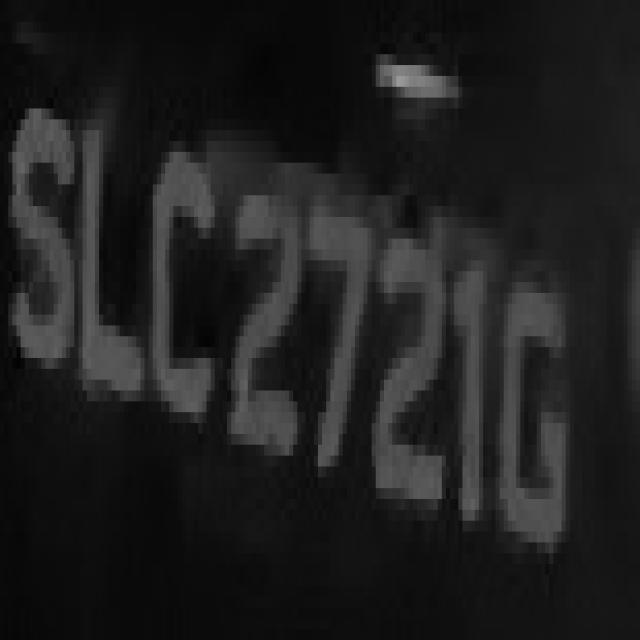1: (442, 184, 499, 554)
2: (372, 163, 450, 564), (223, 130, 306, 477)
7: (297, 152, 380, 499)
C: (157, 98, 210, 520)
G: (487, 217, 582, 564)
L: (74, 65, 153, 477)
S: (4, 43, 83, 423)
